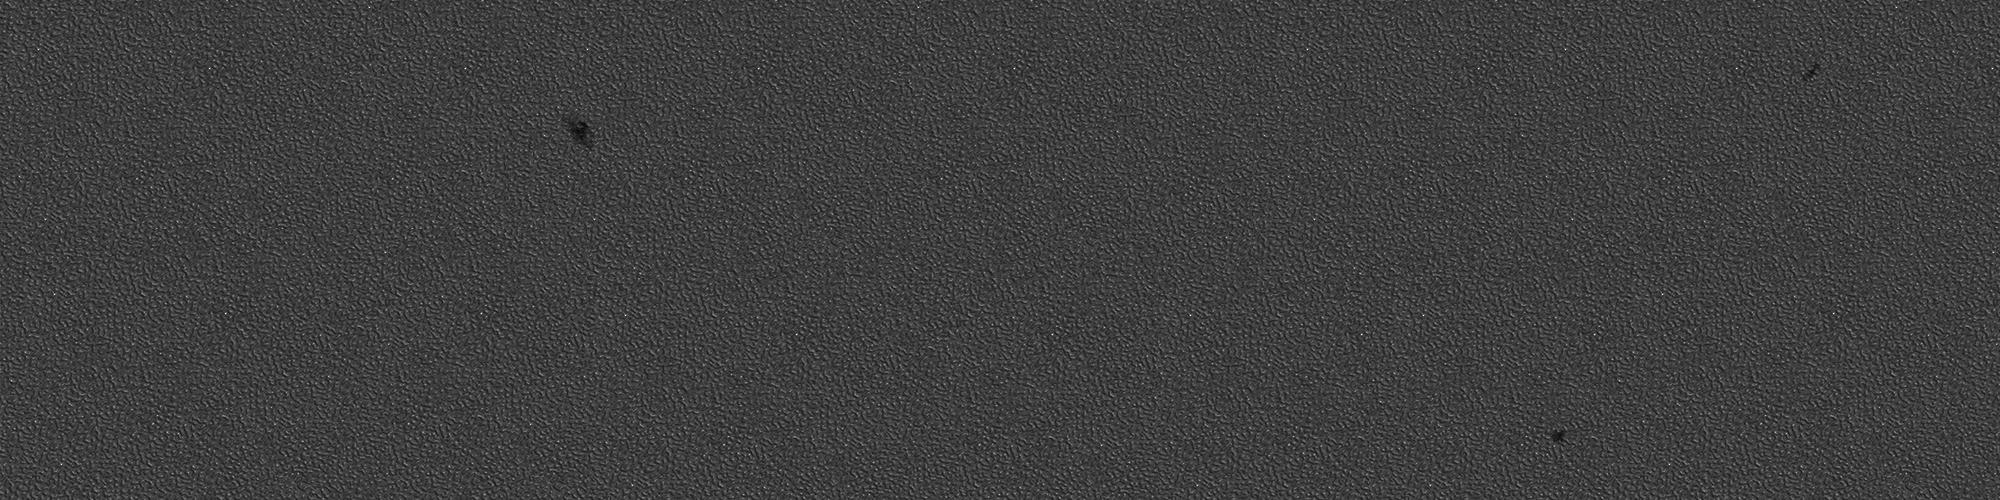Decomposed: (551, 99, 611, 167), (1540, 418, 1582, 452)
